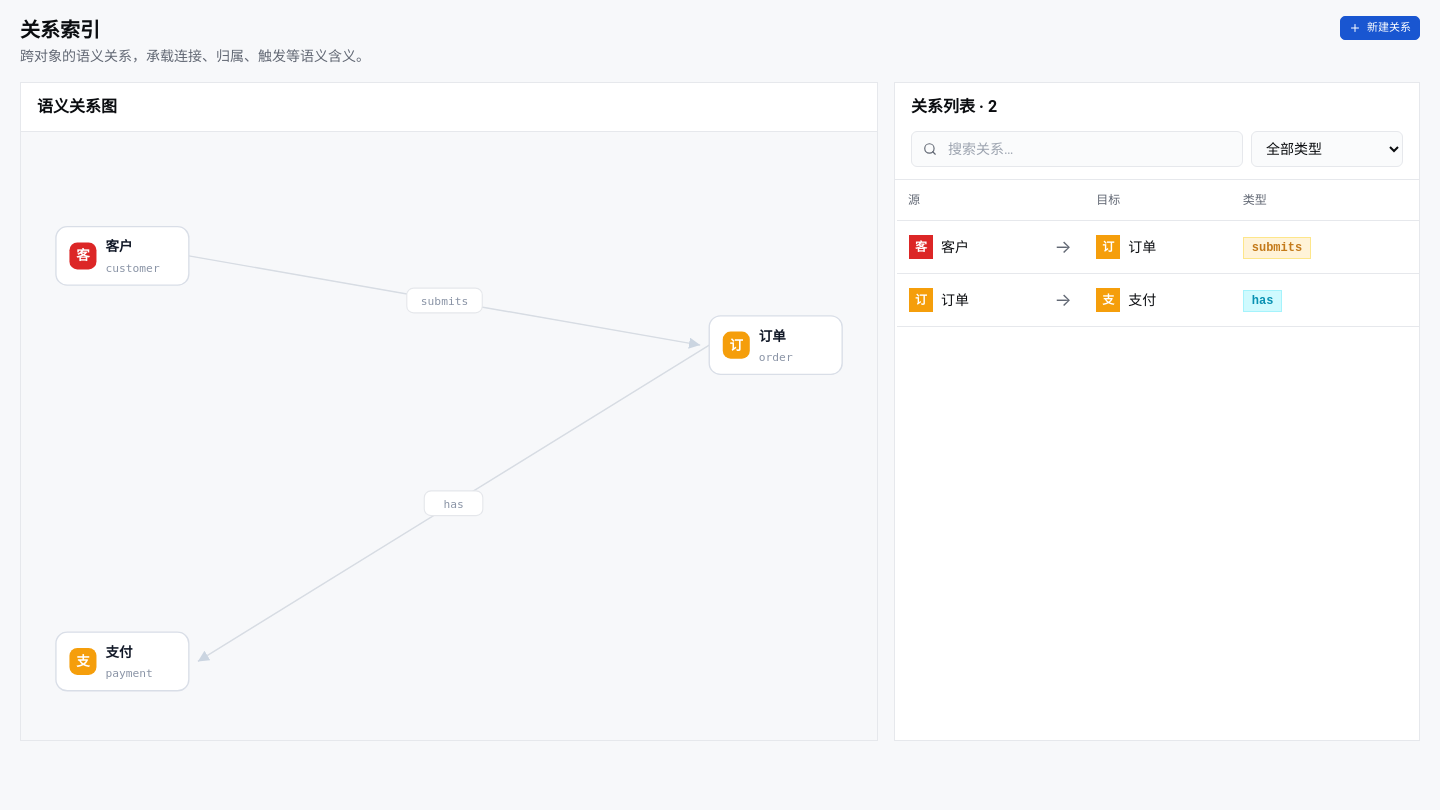
Scenario: OntologyRelations page › 按关系类型筛选，并为关系枚举渲染色彩标签
The image size is (1440, 810).
Select "has" in the dropdown named "关系类型筛选": {"x": 1327, "y": 149} [1251,131,1403,167]
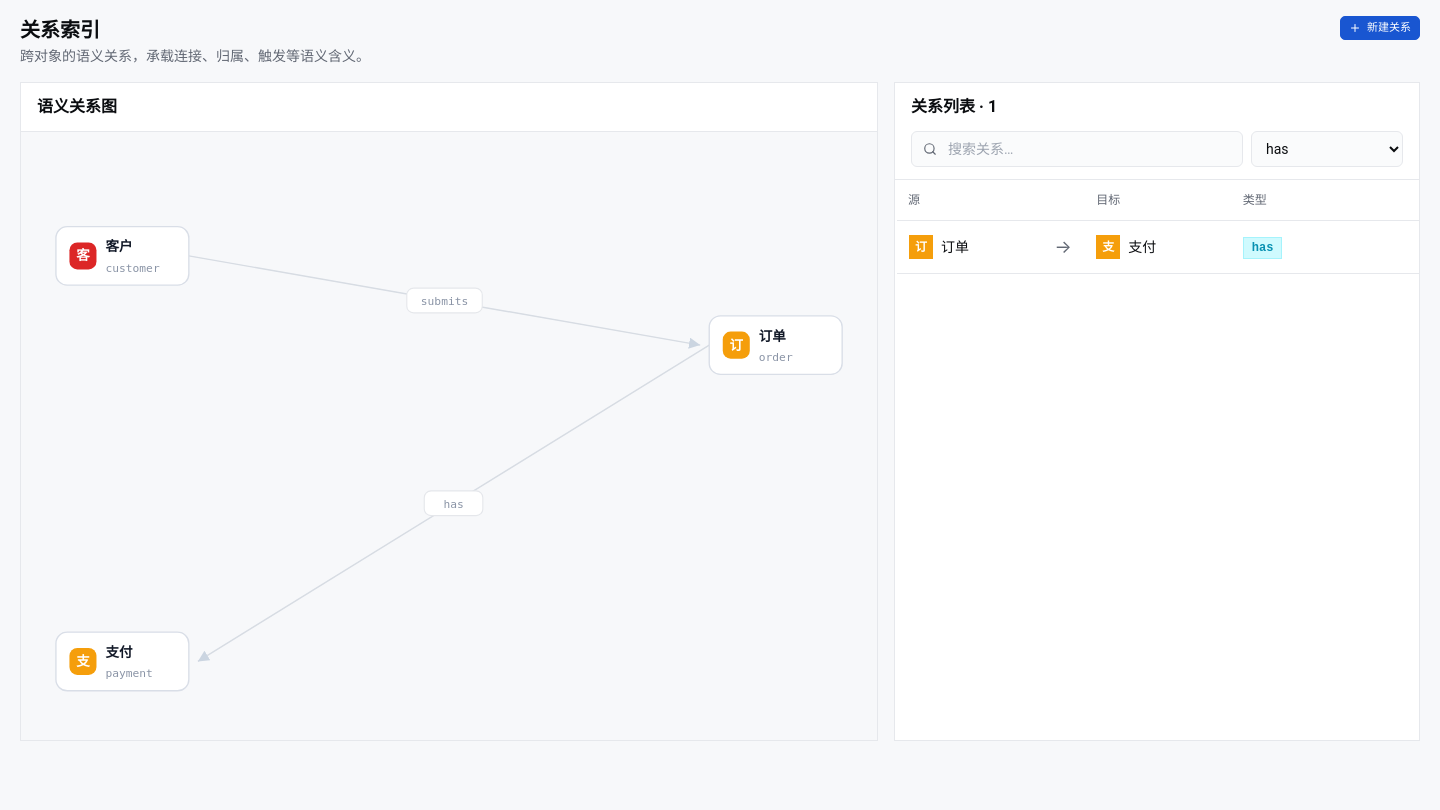
Check: the row with test id "ontology-relations-row-order_has_payment" is shown, box [896,220,1419,274]
Check: the row with test id "ontology-relations-row-customer_submits_order" is gone
